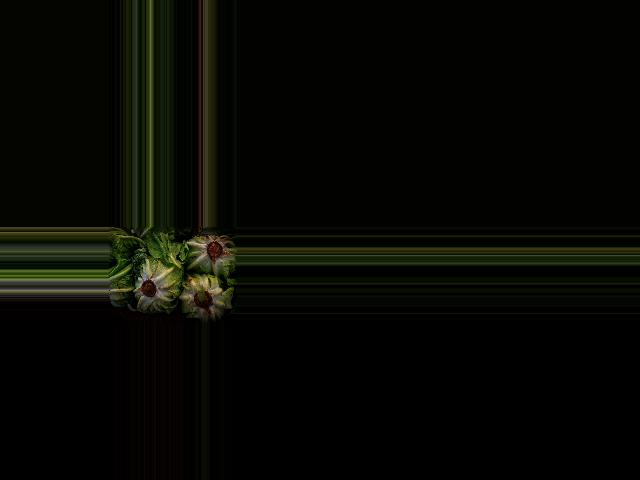lettuce: (186, 233, 236, 276)
